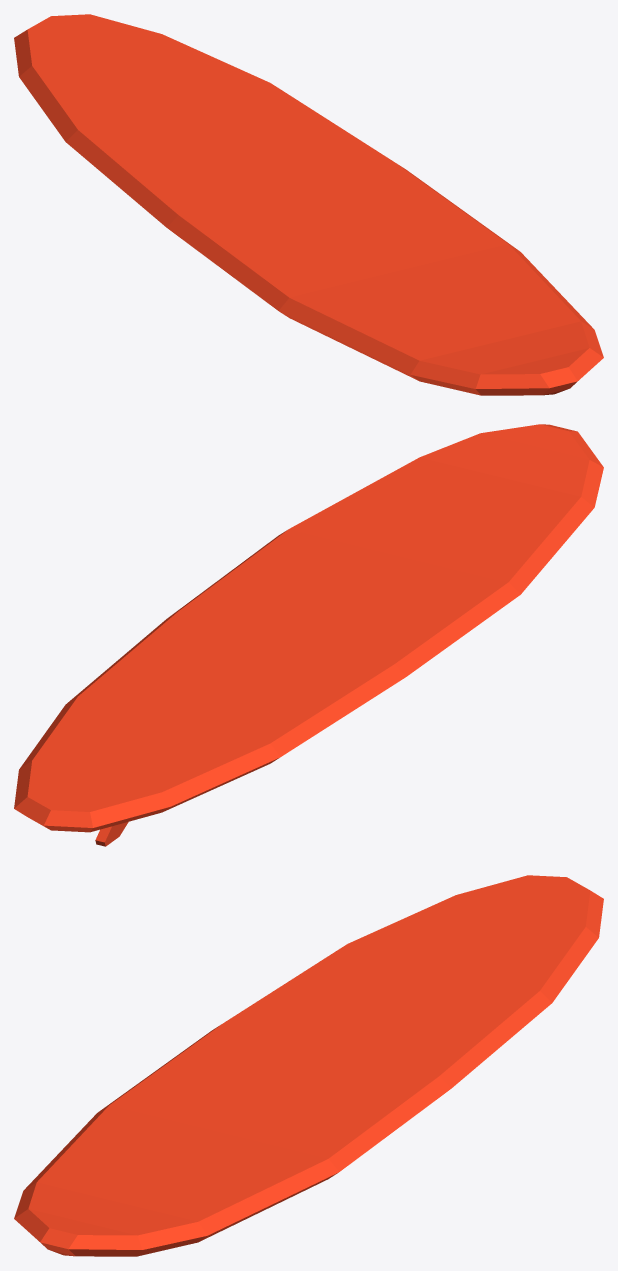
File: SM_Surf_B_City.fbx
3 renders of one model, top to bottom at view 1: azimuth 30°, elevation 25°; view 2: azimuth 150°, elevation 25°; view 3: azimuth 330°, elevation 25°, orthographic.
Visible parts, largest first — view 1: SM_Surf_B_City; view 2: SM_Surf_B_City; view 3: SM_Surf_B_City.
Part boxes in pixels (bbox=[...]): SM_Surf_B_City: bbox=[14, 14, 603, 395]; SM_Surf_B_City: bbox=[14, 424, 603, 846]; SM_Surf_B_City: bbox=[14, 875, 603, 1256].
Size of the model in its own units: 0.7493 by 0.258 by 2.78.
